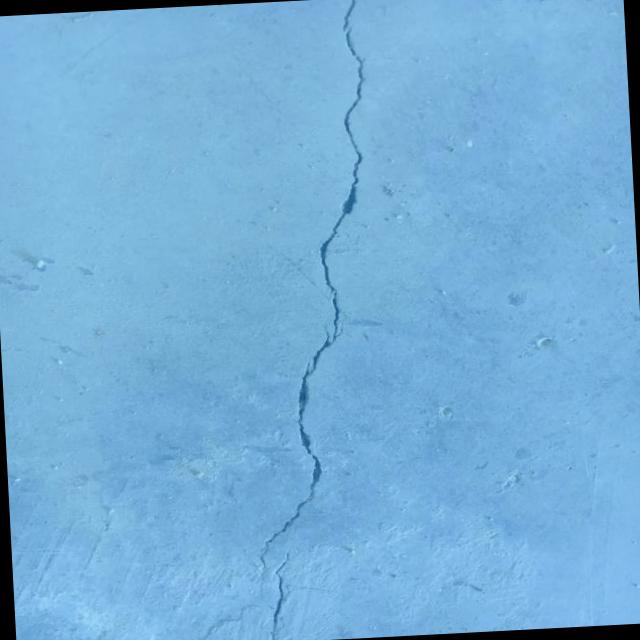crack: (231, 0, 392, 569), (266, 550, 296, 640)
